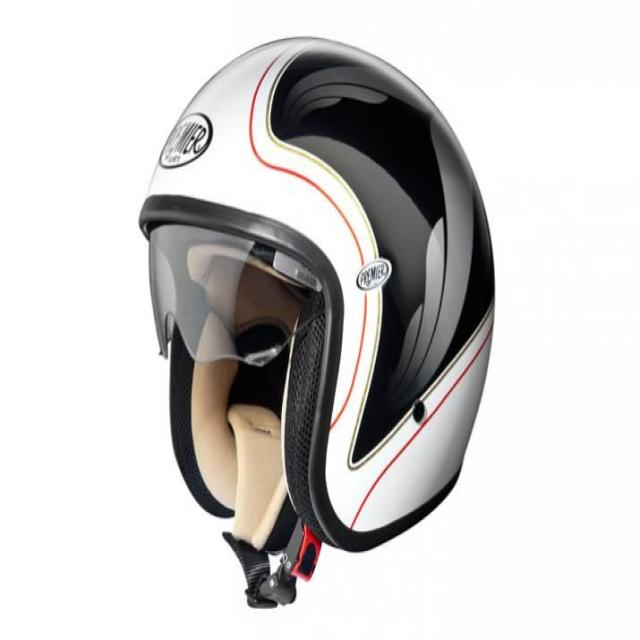Helm: (136, 31, 500, 616)
